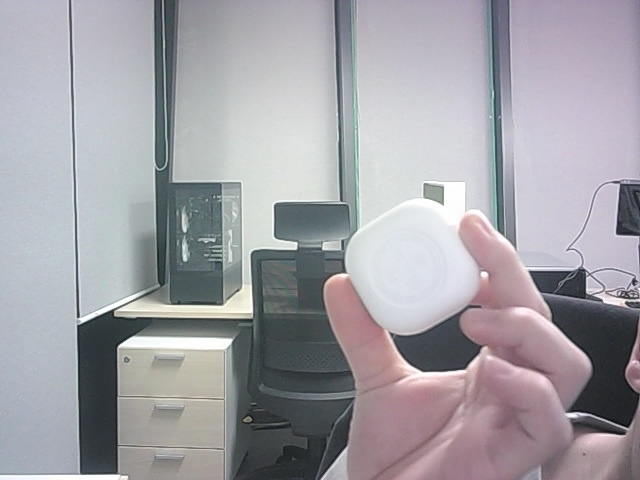case: (345, 199, 479, 334)
